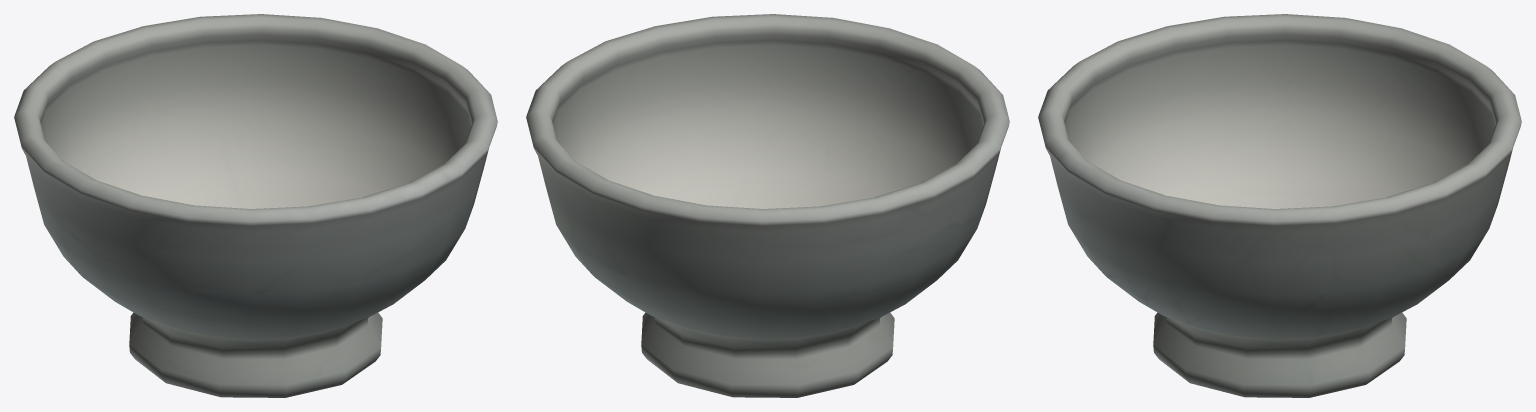
Rendered from TraditionalKoreanHouse_CupA.fbx.
The picture shows the model from 3 angles, left to right: view 1: azimuth 30°, elevation 25°; view 2: azimuth 150°, elevation 25°; view 3: azimuth 270°, elevation 25°; orthographic projection.
Parts seen in each view (by area): view 1: TraditionalKoreanHouse_CupA; view 2: TraditionalKoreanHouse_CupA; view 3: TraditionalKoreanHouse_CupA.
Boxes of the visible parts, <box> form: TraditionalKoreanHouse_CupA: <box>14,14,497,397</box>; TraditionalKoreanHouse_CupA: <box>526,14,1009,397</box>; TraditionalKoreanHouse_CupA: <box>1038,14,1521,397</box>.
Bounding box in the file's own units: 6.31 × 3.4 × 6.31.
